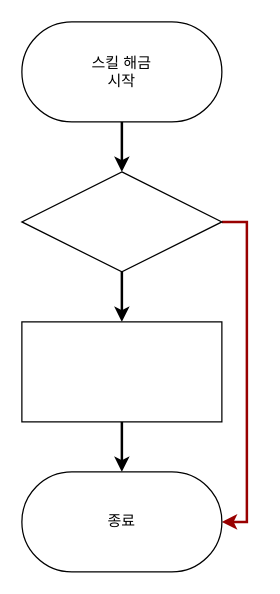
The diagram is 280 pixels wide and 594 high, and some of its shapes have lost their labels. Each missing label, with the box of its shape:
스킬 해금 조건을 모두 만족했는가: (21, 171, 222, 272)
해당 스킬이 스킬창에 비활성화 상태로 등장: (21, 321, 222, 422)
